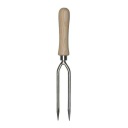fork: (49, 7, 81, 128)
